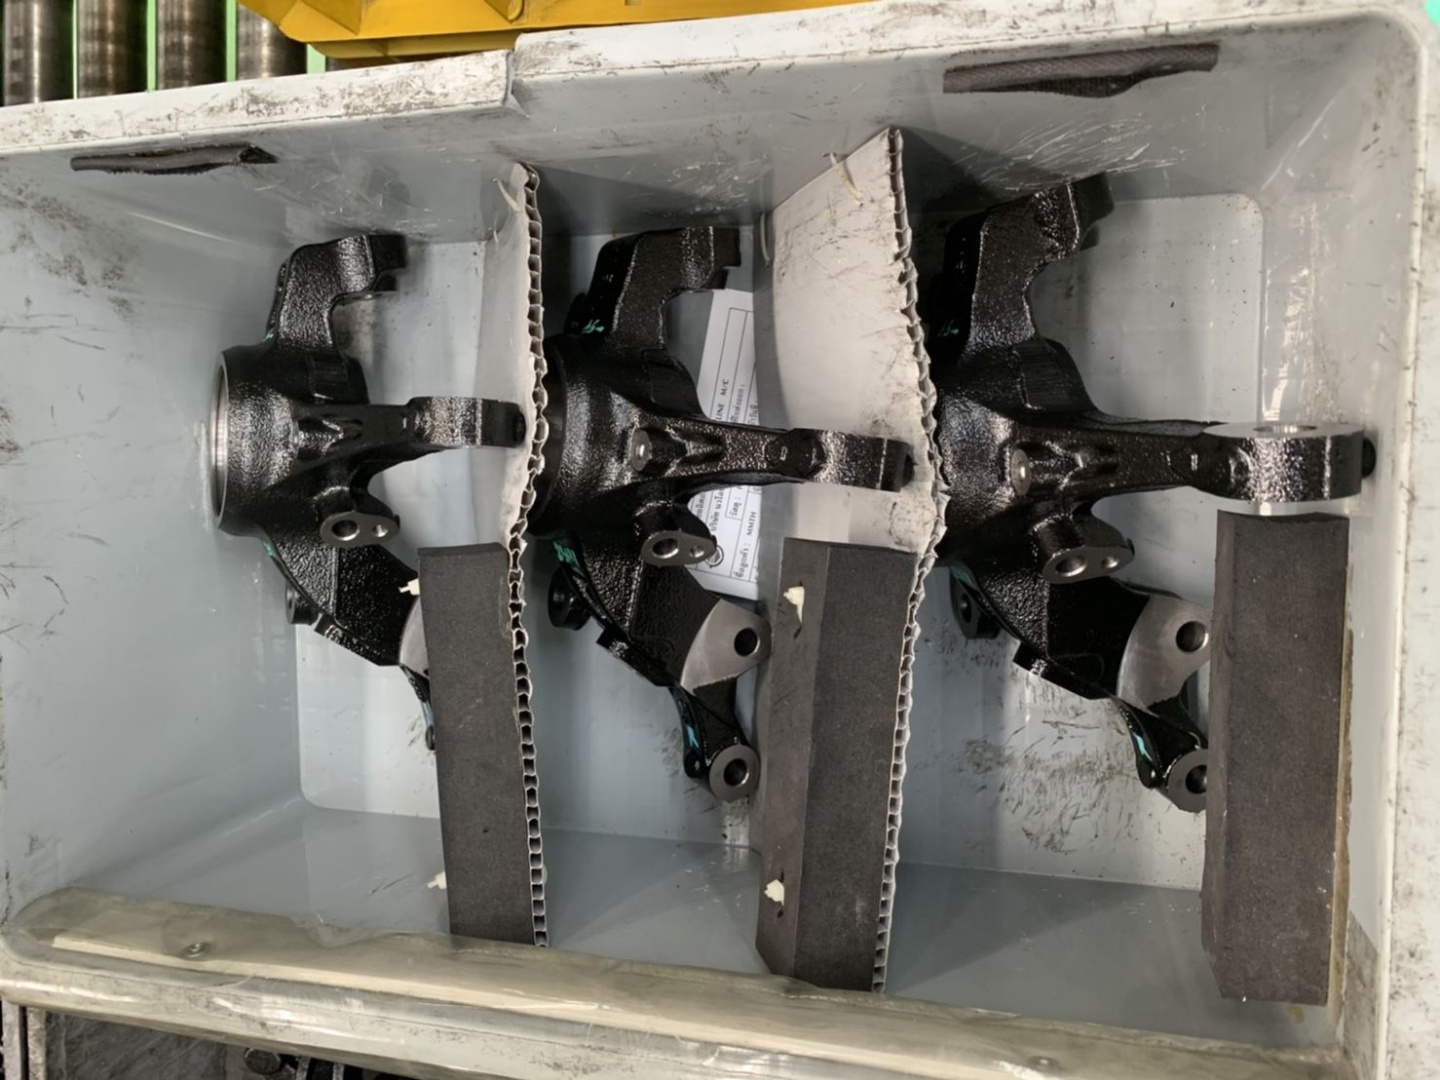abs-rh: (921, 161, 1382, 825), (531, 211, 918, 810), (204, 225, 531, 821)
